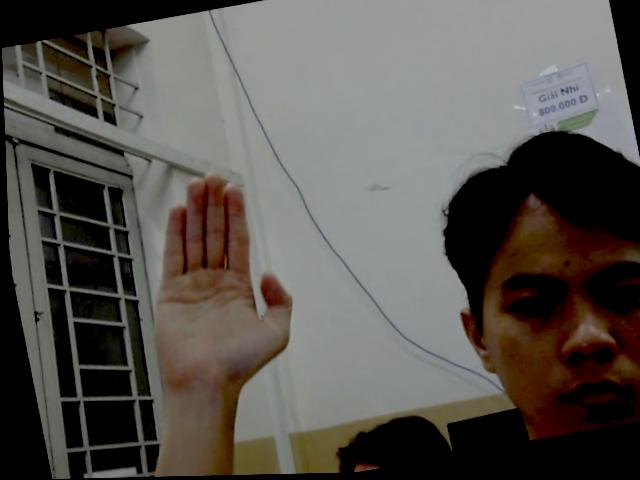B: (115, 157, 321, 384)
